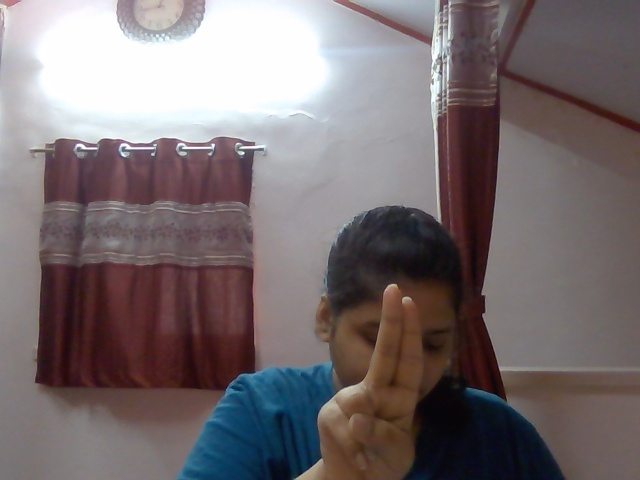u: (309, 270, 438, 475)
